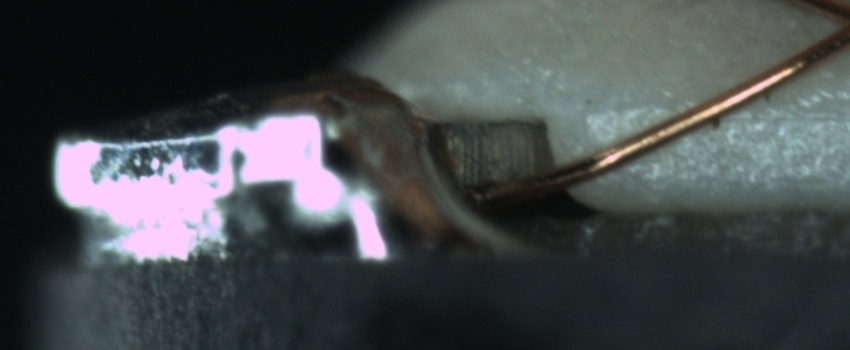DL: (581, 84, 849, 148)
